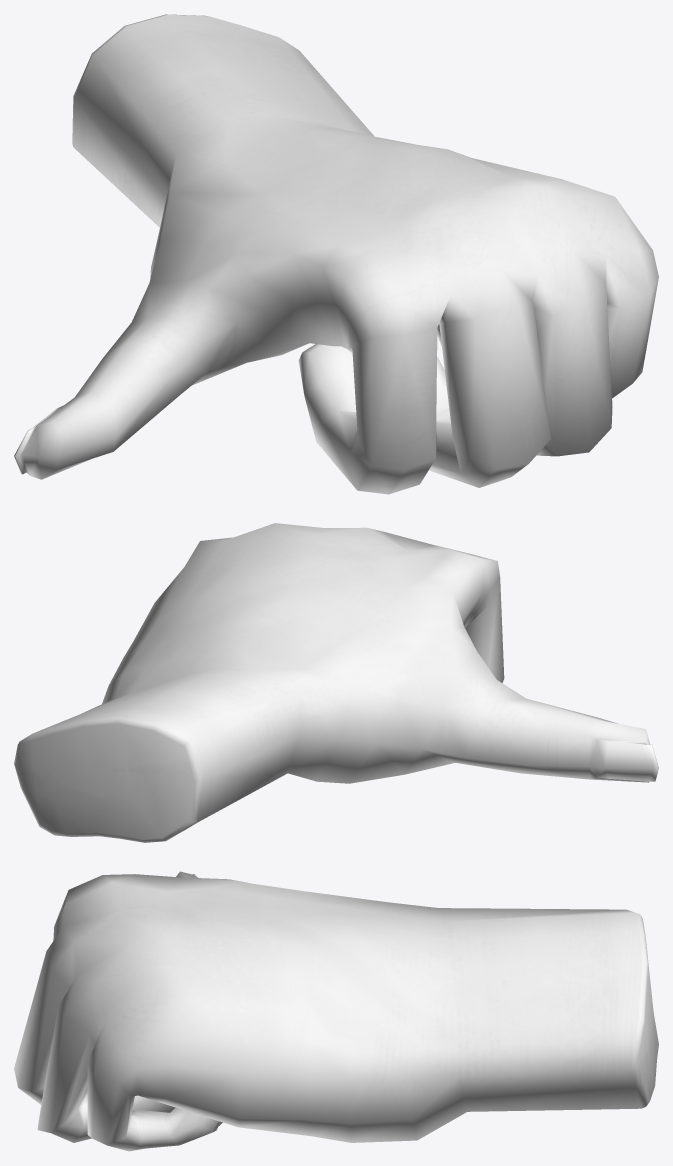
File: l_smooth_thumbsUp.glb
3 views of the same model, one above another, from view 1: azimuth 30°, elevation 25°; view 2: azimuth 150°, elevation 25°; view 3: azimuth 270°, elevation 25° (orthographic). The views are drawn at different scales.
Visible parts, largest first — view 1: L_Smooth_ThumbsUp; view 2: L_Smooth_ThumbsUp; view 3: L_Smooth_ThumbsUp.
Part boxes in pixels (box(x1,y1,x2,y2)): L_Smooth_ThumbsUp: box(14, 14, 658, 494); L_Smooth_ThumbsUp: box(14, 523, 658, 842); L_Smooth_ThumbsUp: box(14, 871, 658, 1151).
Size of the model in its own units: 0.1637 by 0.0627 by 0.1765.
Materials: 1 (1 with a texture image).
